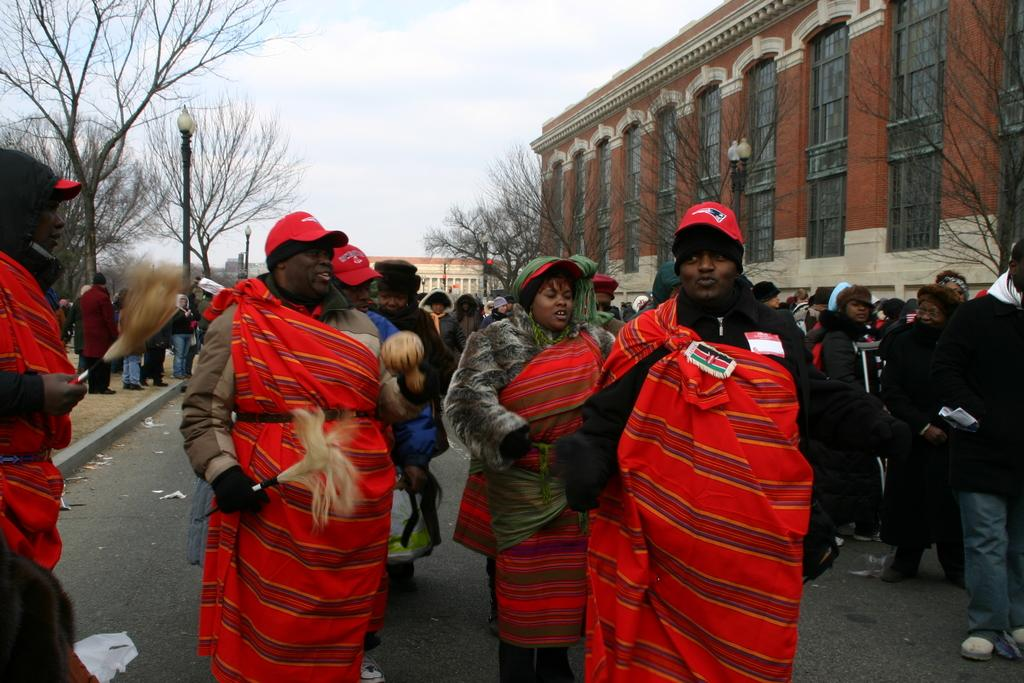Hat: (260, 205, 350, 269), (671, 198, 745, 249), (333, 241, 382, 284)
